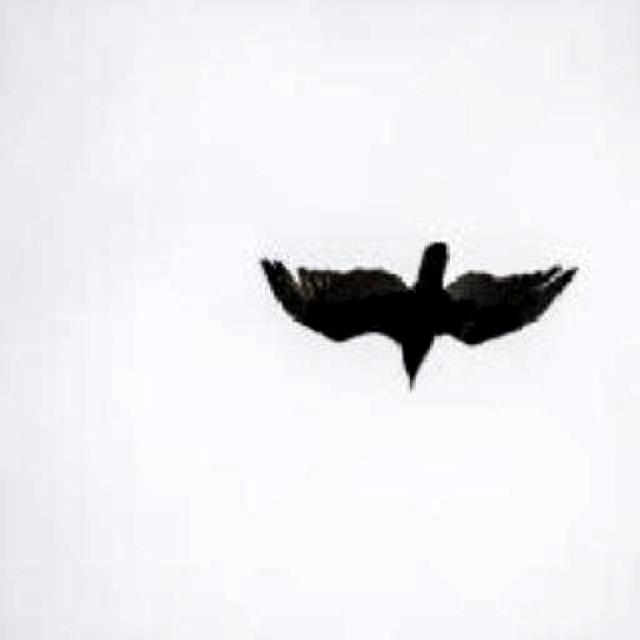airplane: (260, 236, 580, 400)
